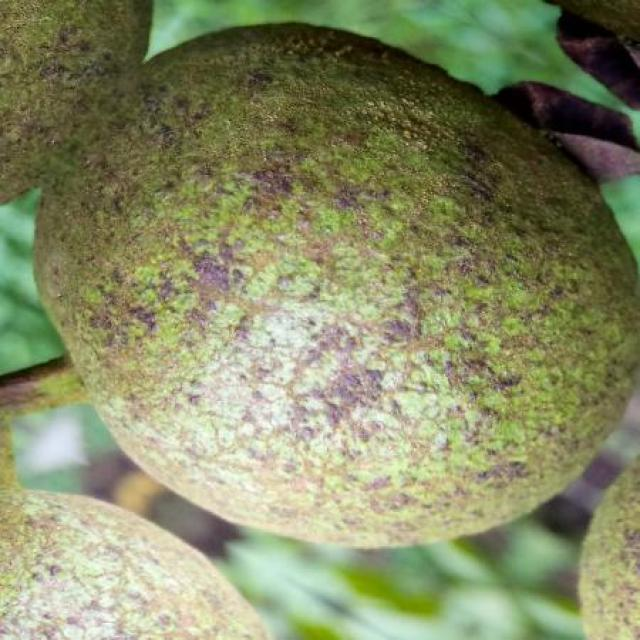Scab: (38, 25, 640, 544), (4, 494, 266, 640)
